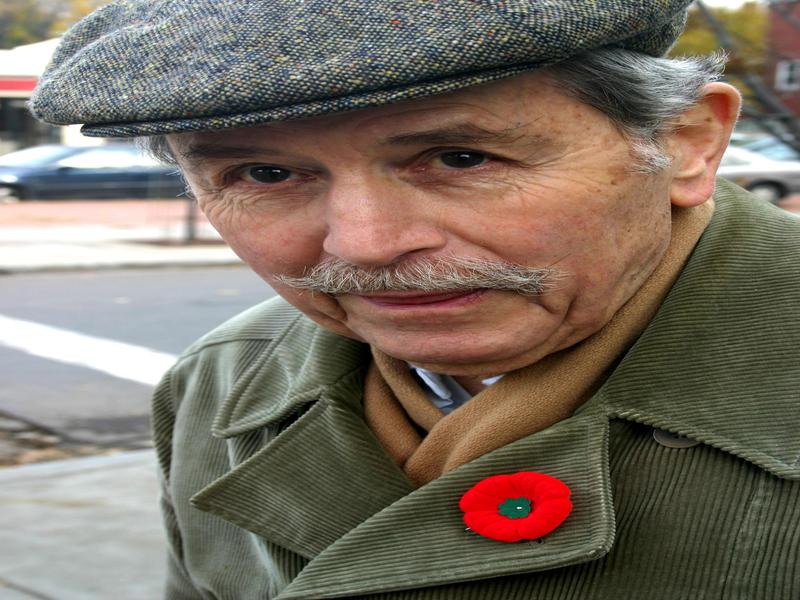person: (37, 4, 800, 596)
